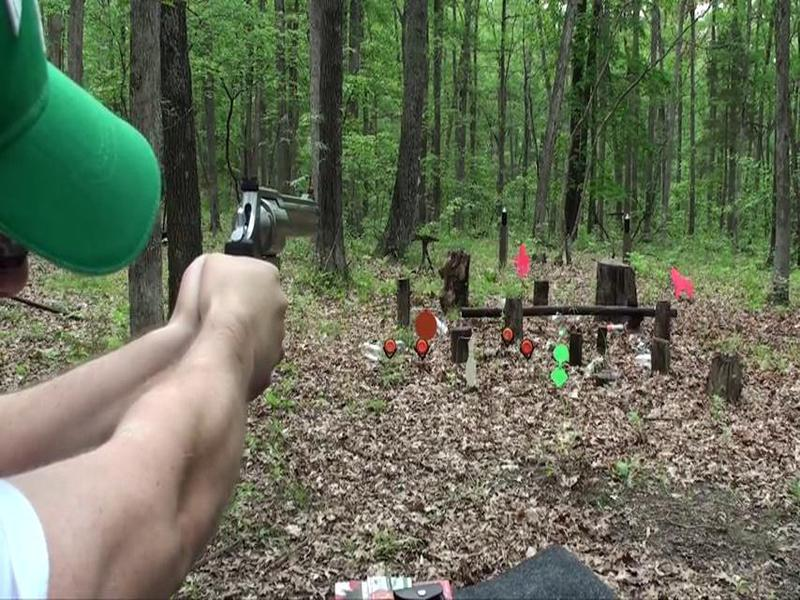Revolver: (212, 173, 327, 282)
